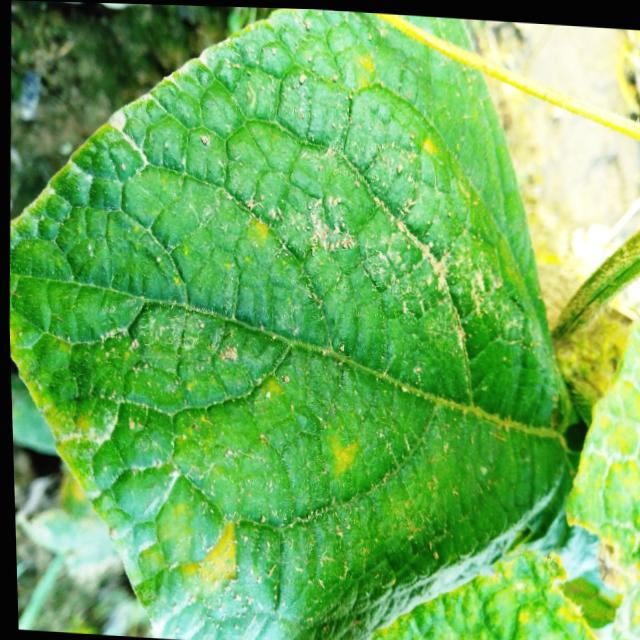Downy-Mildew: (10, 17, 551, 640)
